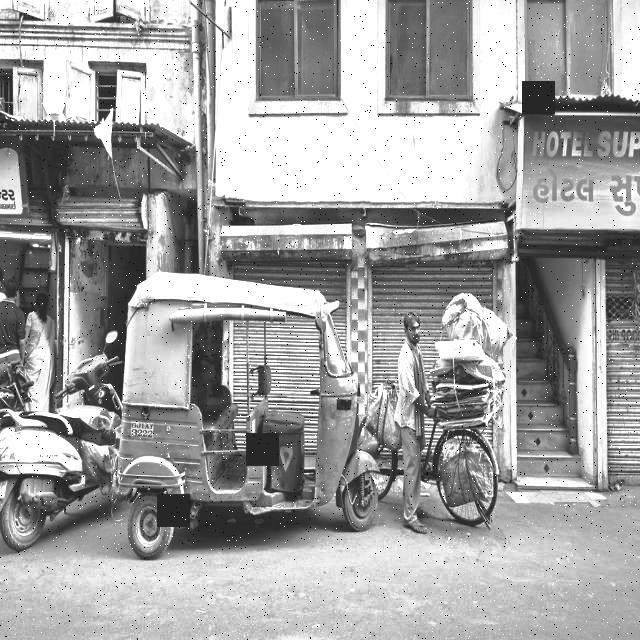Auto-Rickshaw: (111, 248, 401, 573)
